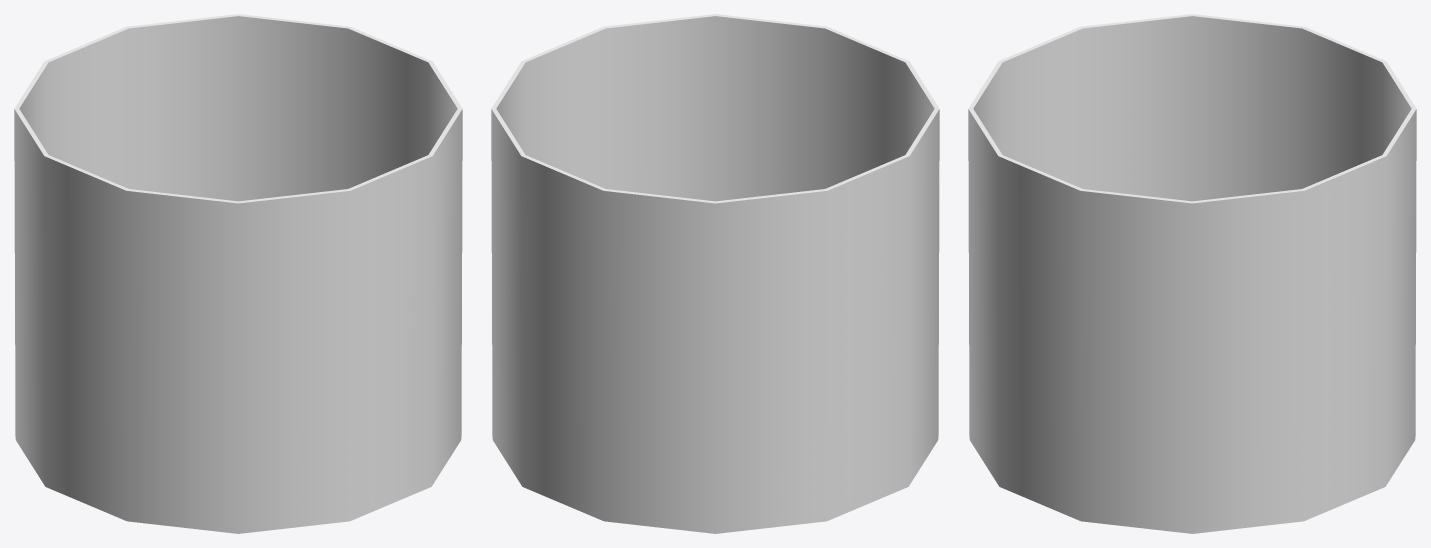
The model's file is mesh_colorRing.FBX.
The picture shows the model from 3 angles, left to right: view 1: azimuth 30°, elevation 25°; view 2: azimuth 150°, elevation 25°; view 3: azimuth 270°, elevation 25°; orthographic projection.
Parts seen in each view (by area): view 1: Cylinder001; view 2: Cylinder001; view 3: Cylinder001.
Boxes of the visible parts, x1,y1,x2,y2 form: Cylinder001: (14,14,462,533); Cylinder001: (491,14,939,533); Cylinder001: (968,14,1416,533).
Bounding box in the file's own units: 90.68 × 90.68 × 73.86.
